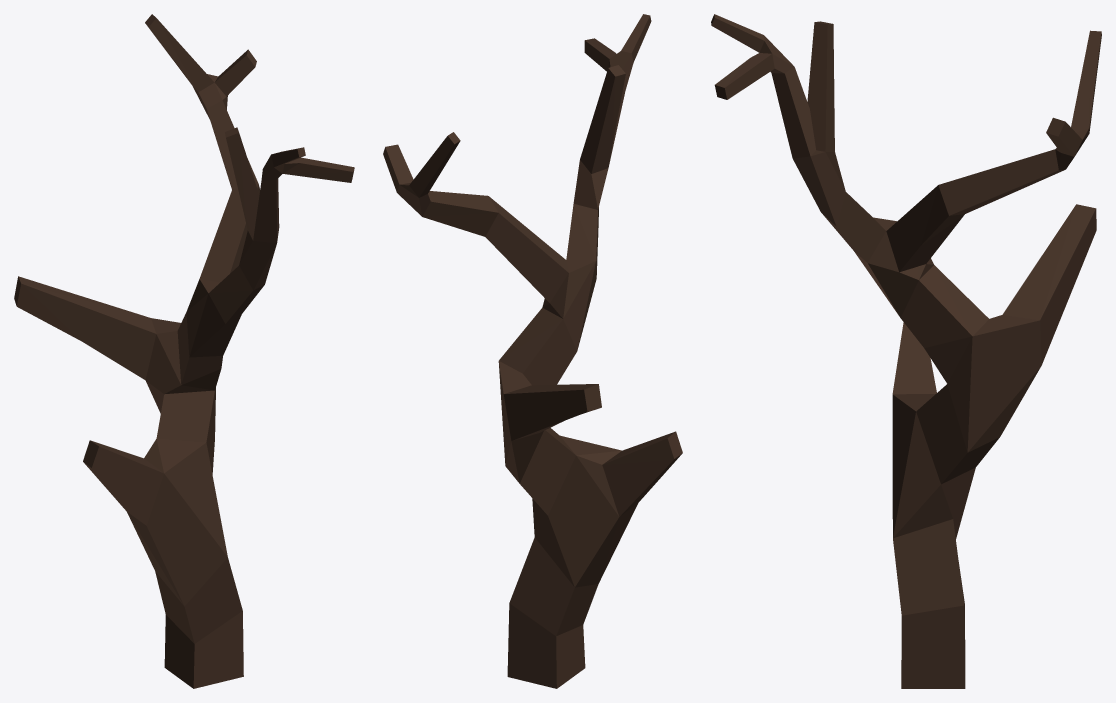
File: No_leaf_Tree.fbx
3 views of the same model, side by side, from view 1: azimuth 30°, elevation 25°; view 2: azimuth 150°, elevation 25°; view 3: azimuth 270°, elevation 25° (orthographic). The views are drawn at different scales.
Parts seen in each view (by area): view 1: No leaf Tree; view 2: No leaf Tree; view 3: No leaf Tree.
Boxes of the visible parts, x1,y1,x2,y2 form: No leaf Tree: [14, 14, 354, 688]; No leaf Tree: [383, 14, 682, 688]; No leaf Tree: [711, 14, 1101, 688].
Size of the model in its own units: 467 by 1132 by 610.
